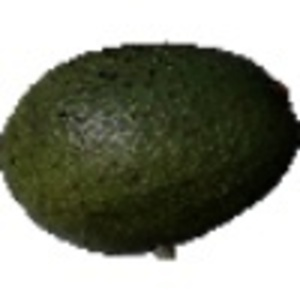abacate: (2, 43, 300, 254)
